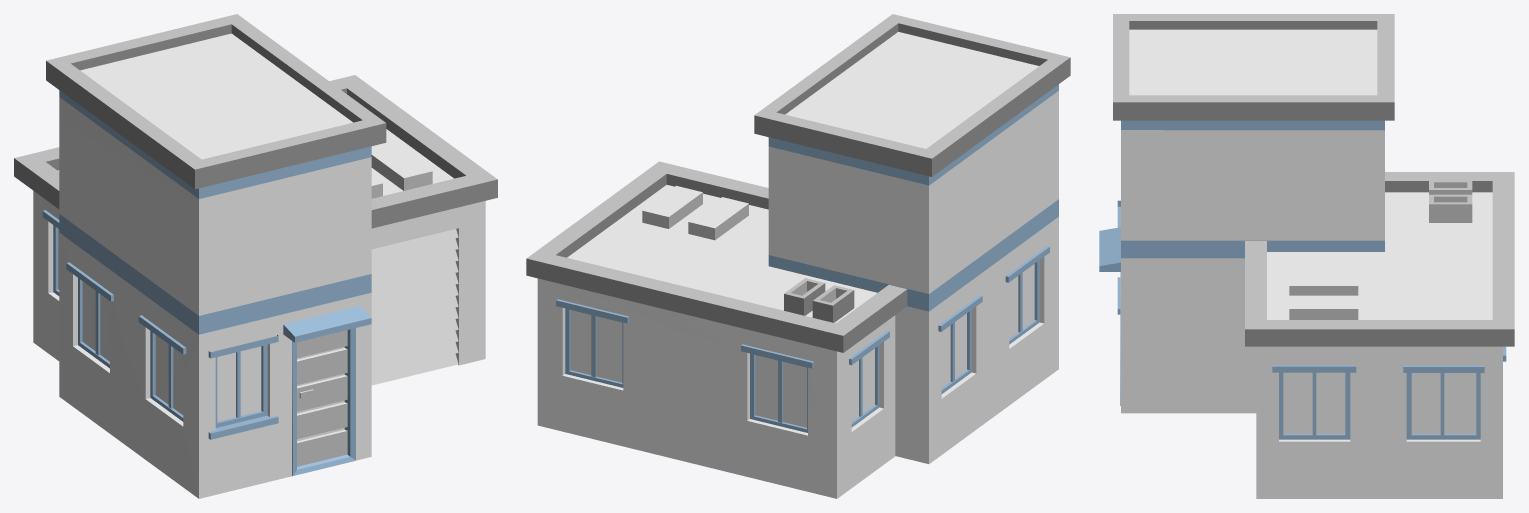
File: house_purpose_008.glb
3 views of the same model, side by side, from view 1: azimuth 30°, elevation 25°; view 2: azimuth 150°, elevation 25°; view 3: azimuth 270°, elevation 25° (orthographic). The views are drawn at different scales.
Parts seen in each view (by area): view 1: house_purpose_008; view 2: house_purpose_008; view 3: house_purpose_008.
Boxes of the visible parts, left/top/right/bottom form: house_purpose_008: left=14, top=14, right=497, bottom=498; house_purpose_008: left=526, top=14, right=1070, bottom=498; house_purpose_008: left=1099, top=14, right=1514, bottom=498.
Bounding box in the file's own units: 7.41 × 6.36 × 7.57.
Materials: 1 (1 with a texture image).
